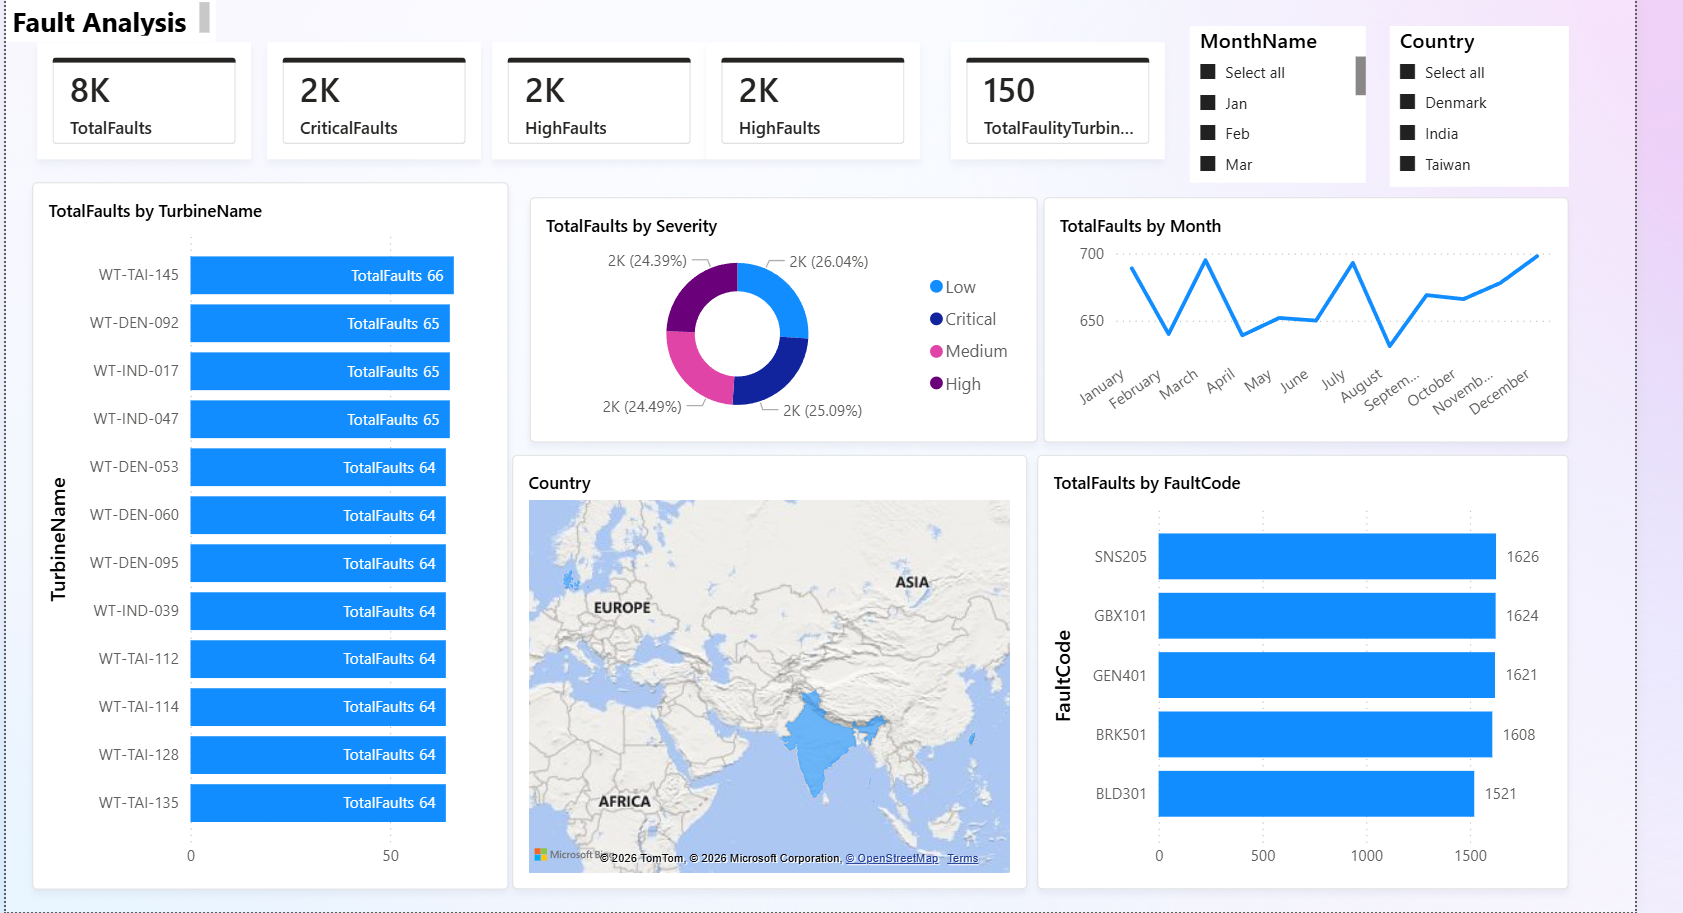

What the dashboard file says about the page in this screenshot:
{"tool":"powerbi","page":{"name":"Fault Analysis","canvas":[1280,720],"ordinal":1},"visuals":[{"type":"cardVisual","fields":{"Data":["Measure.TotalFaults"]},"box":[24.6,35.9,168.4,92.4],"z":0},{"type":"cardVisual","fields":{"Data":["Measure.CriticalFaults"]},"box":[205.3,35.9,168.4,92.4],"z":1000},{"type":"cardVisual","fields":{"Data":["Measure.HighFaults"]},"box":[381.9,35.9,168.4,92.4],"z":2000},{"type":"cardVisual","fields":{"Data":["Measure.HighFaults"]},"box":[550.3,35.9,168.4,92.4],"z":3000},{"type":"cardVisual","fields":{"Data":["Measure.TotalFaulityTurbines"]},"box":[743.3,35.9,168.4,92.4],"z":4000},{"type":"lineChart","fields":{"Y":["Measure.TotalFaults"],"Category":["DimDate.DateKey.Variation.Date Hierarchy.Month"]},"box":[815.1,158.1,412.8,193],"z":5000},{"type":"donutChart","fields":{"Category":["FactFaults.Severity"],"Y":["Measure.TotalFaults"]},"box":[411.6,158.1,398.8,193],"z":6000},{"type":"barChart","fields":{"Category":["DimTurbines.TurbineName"],"Y":["Measure.TotalFaults"]},"box":[20.9,146.5,374.4,555.8],"z":7000},{"type":"filledMap","fields":{"Category":["DimTurbines.Country","DimTurbines.Site"]},"box":[397.7,360.5,404.7,341.9],"z":8000},{"type":"clusteredBarChart","fields":{"Y":["Measure.TotalFaults"],"Category":["FactFaults.FaultCode"]},"box":[810.5,360.5,417.4,341.9],"z":9000},{"type":"slicer","fields":{"Values":["DimDate.MonthName"]},"box":[930.2,23.3,138.4,123.3],"z":10000},{"type":"slicer","fields":{"Values":["DimTurbines.Country"]},"box":[1087.2,23.3,140.7,126.7],"z":11000},{"type":"textbox","box":[0,0,165.1,36],"z":12000}]}

Visuals, with their boxes on the page's 1280x720 design canvas (x1, y1, x2, y2). These are canvas units, not pixel positions in the 1683x913 screenshot, which may show the page scaled, cropped or inside an application window:
cardVisual - Measure.TotalFaults: x1=25 y1=36 x2=193 y2=128
cardVisual - Measure.CriticalFaults: x1=205 y1=36 x2=374 y2=128
cardVisual - Measure.HighFaults: x1=382 y1=36 x2=550 y2=128
cardVisual - Measure.HighFaults: x1=550 y1=36 x2=719 y2=128
cardVisual - Measure.TotalFaulityTurbines: x1=743 y1=36 x2=912 y2=128
lineChart - Measure.TotalFaults x DimDate.DateKey.Variation.Date Hierarchy.Month: x1=815 y1=158 x2=1228 y2=351
donutChart - FactFaults.Severity x Measure.TotalFaults: x1=412 y1=158 x2=810 y2=351
barChart - DimTurbines.TurbineName x Measure.TotalFaults: x1=21 y1=146 x2=395 y2=702
filledMap - DimTurbines.Country x DimTurbines.Site: x1=398 y1=360 x2=802 y2=702
clusteredBarChart - Measure.TotalFaults x FactFaults.FaultCode: x1=810 y1=360 x2=1228 y2=702
slicer - DimDate.MonthName: x1=930 y1=23 x2=1069 y2=147
slicer - DimTurbines.Country: x1=1087 y1=23 x2=1228 y2=150
textbox: x1=0 y1=0 x2=165 y2=36
